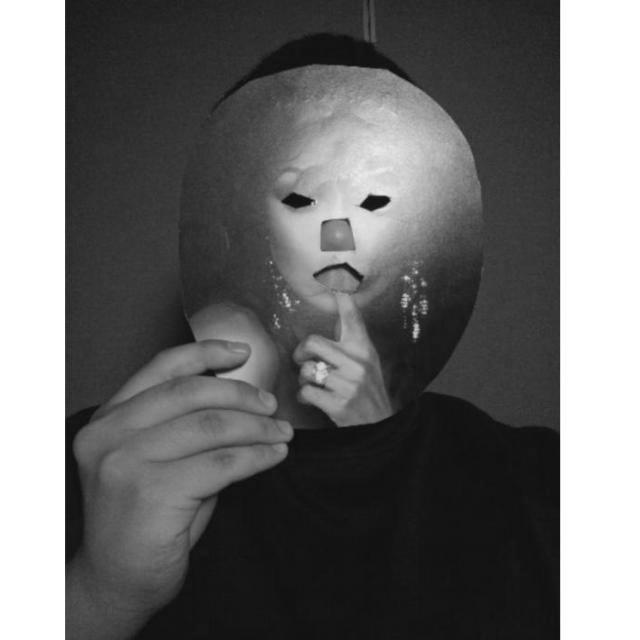fake: (173, 60, 486, 433)
